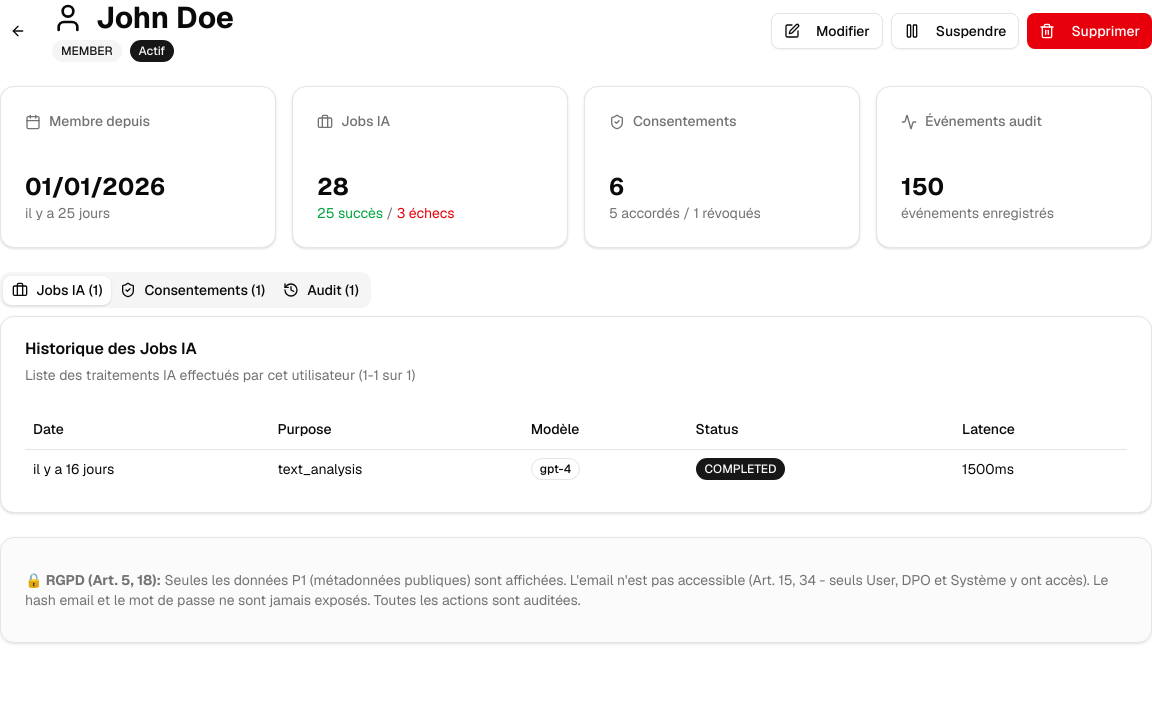
UserDetailPage › Dialogs › [DETAIL-041] opens delete dialog on delete click
Click the button "Supprimer" at (1090, 31), box [1027,13,1151,49]
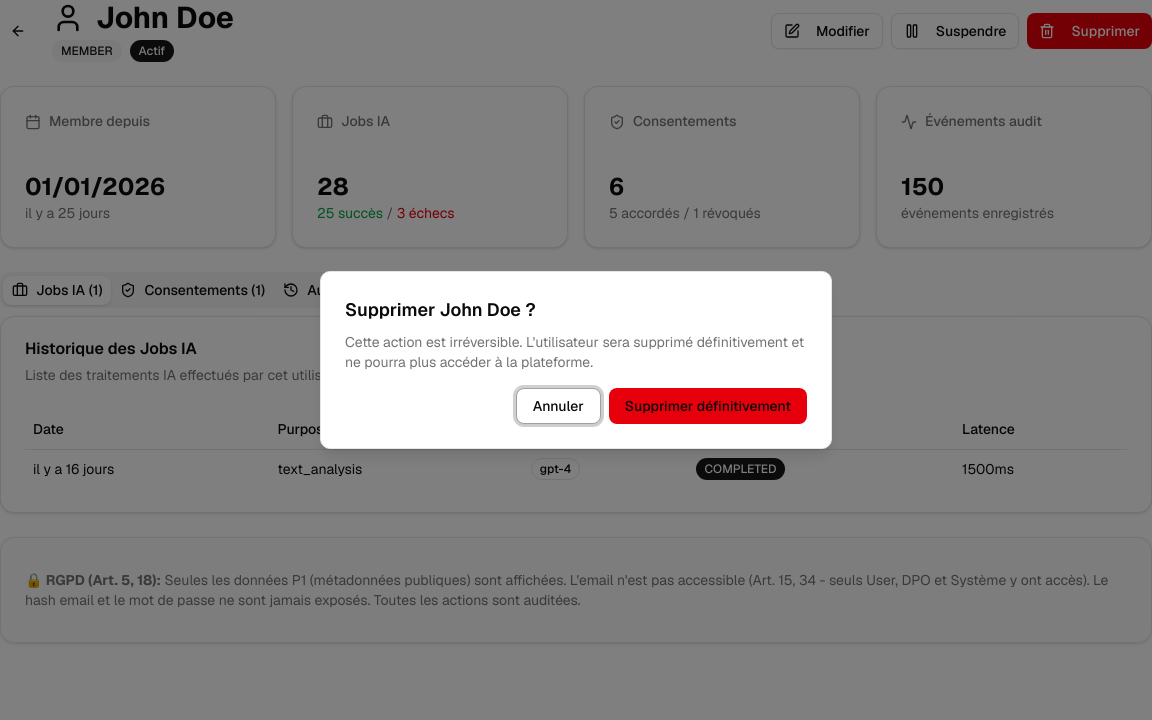
Result: the heading "Supprimer John Doe ?" is shown at [345,298,536,321]
